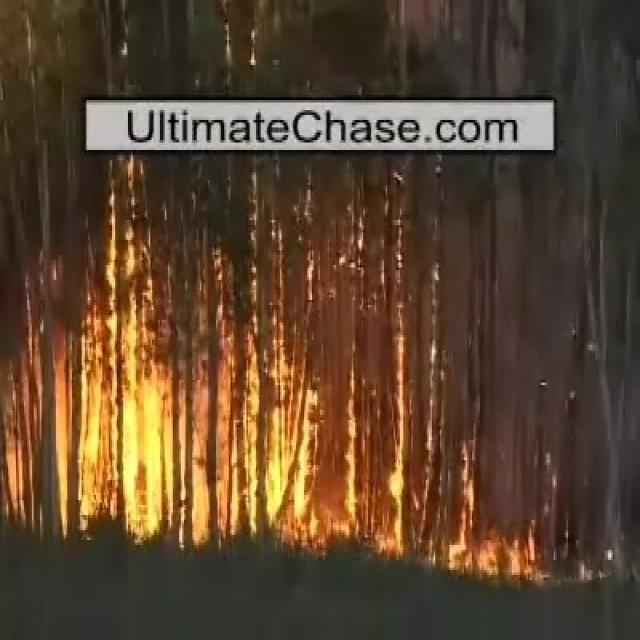Fire: (54, 327, 408, 546), (450, 506, 538, 580)
